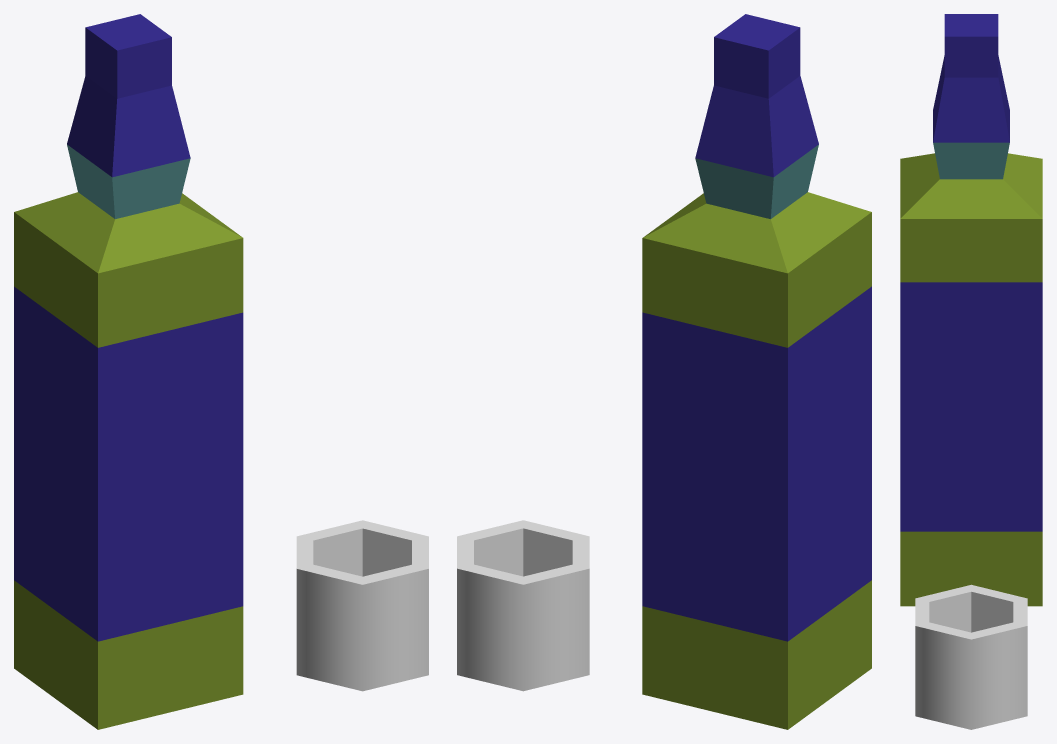
File: bouteille_verre_whisky.FBX
3 views of the same model, side by side, from view 1: azimuth 30°, elevation 25°; view 2: azimuth 150°, elevation 25°; view 3: azimuth 270°, elevation 25° (orthographic). The views are drawn at different scales.
Visible parts, largest first — view 1: Box002, Cylinder001; view 2: Box002, Cylinder001; view 3: Box002, Cylinder001.
Part boxes in pixels (box(x1,y1,x2,y2)): Box002: box(14, 14, 243, 729); Cylinder001: box(296, 520, 428, 691); Box002: box(642, 14, 871, 729); Cylinder001: box(457, 520, 589, 691); Box002: box(900, 14, 1042, 606); Cylinder001: box(915, 584, 1027, 729).
Size of the model in its own units: 25.64 by 44.94 by 10.
